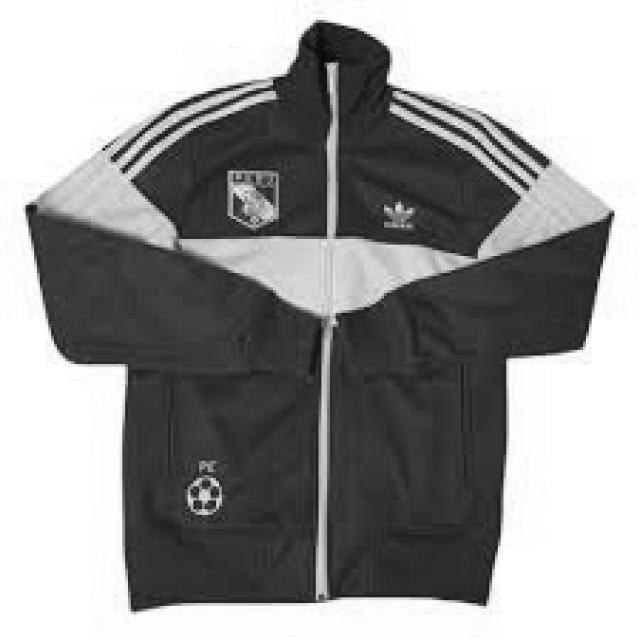Adidas: (375, 188, 423, 230)
